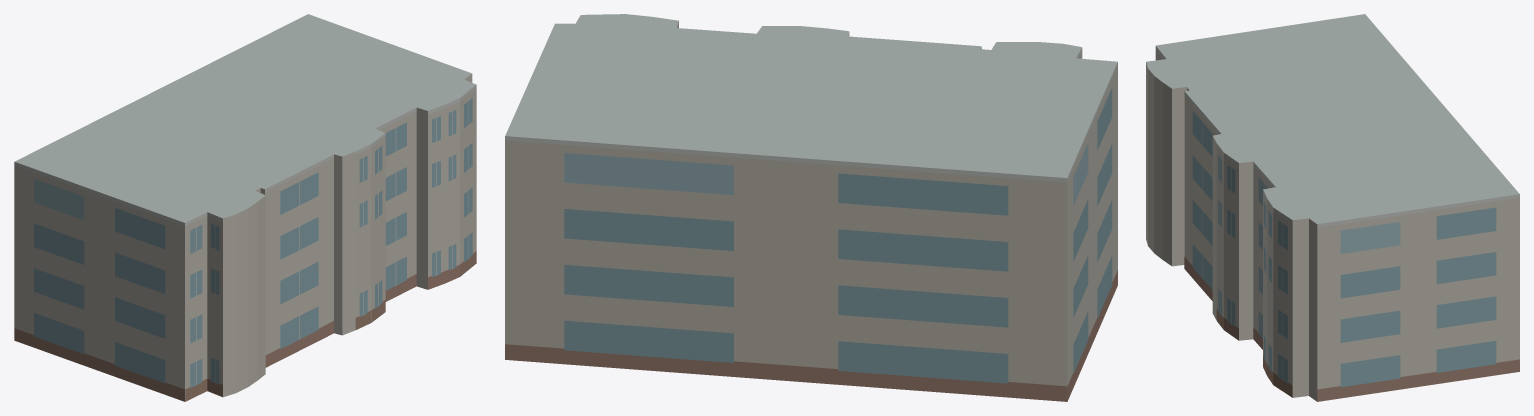
File: survey-upis-32864821.glb
The picture shows the model from 3 angles, left to right: view 1: azimuth 30°, elevation 25°; view 2: azimuth 150°, elevation 25°; view 3: azimuth 270°, elevation 25°; orthographic projection. The views are drawn at different scales.
Parts seen in each view (by area): view 1: survey-upis-32864821.tmp; view 2: survey-upis-32864821.tmp; view 3: survey-upis-32864821.tmp.
Part boxes in pixels (left/top/right/bottom): survey-upis-32864821.tmp: left=14, top=14, right=476, bottom=401; survey-upis-32864821.tmp: left=505, top=14, right=1117, bottom=401; survey-upis-32864821.tmp: left=1146, top=14, right=1519, bottom=401.
Bounding box in the file's own units: 30.97 × 12.2 × 23.27.
